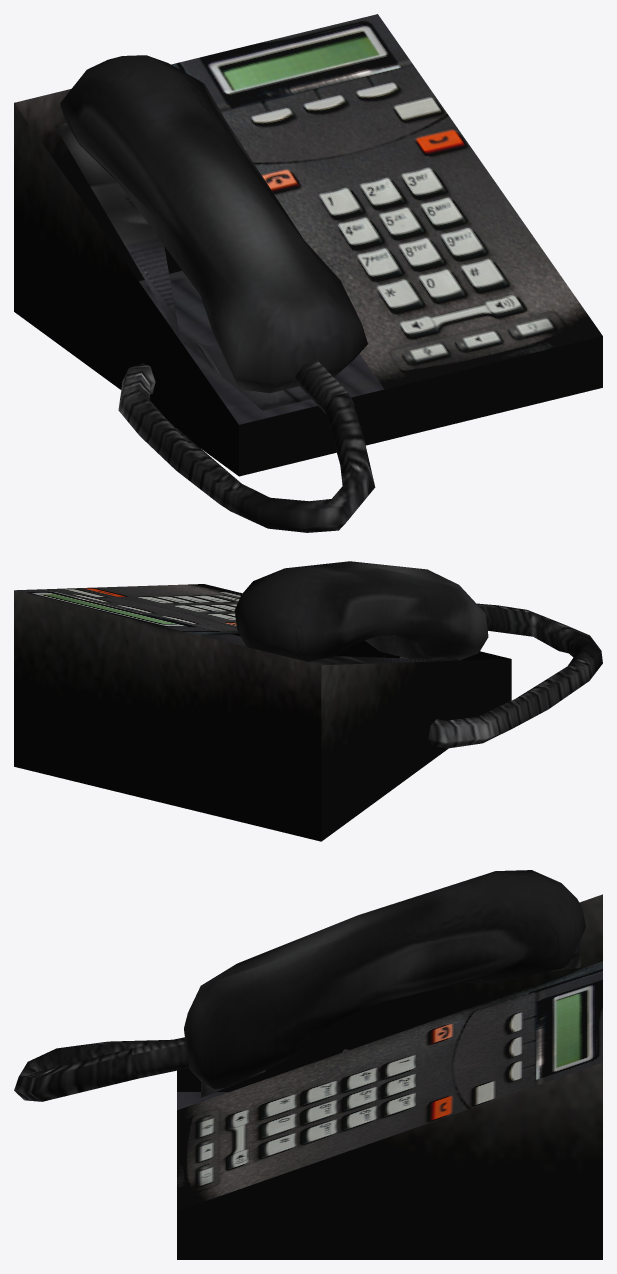
The model's file is phone 1_lod3.fbx.
The picture shows the model from 3 angles, top to bottom: view 1: azimuth 30°, elevation 25°; view 2: azimuth 150°, elevation 25°; view 3: azimuth 270°, elevation 25°; orthographic projection. The views are drawn at different scales.
Parts seen in each view (by area): view 1: polySurface2, polySurface3, pCylinder1; view 2: polySurface2, polySurface3, pCylinder1; view 3: polySurface2, polySurface3, pCylinder1.
Boxes of the visible parts, x1,y1,x2,y2 form: polySurface2: [14, 14, 602, 476]; polySurface3: [60, 55, 367, 393]; pCylinder1: [118, 360, 375, 532]; polySurface2: [14, 584, 511, 841]; polySurface3: [234, 561, 488, 661]; pCylinder1: [428, 603, 602, 748]; polySurface2: [177, 894, 602, 1259]; polySurface3: [184, 870, 585, 1089]; pCylinder1: [14, 1037, 348, 1101].
Bounding box in the file's own units: 1.62 × 0.963 × 2.07.
